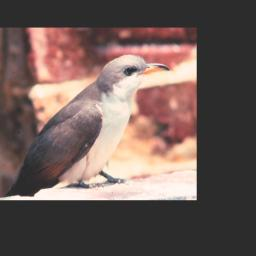Cuckoo: (4, 54, 170, 198)
